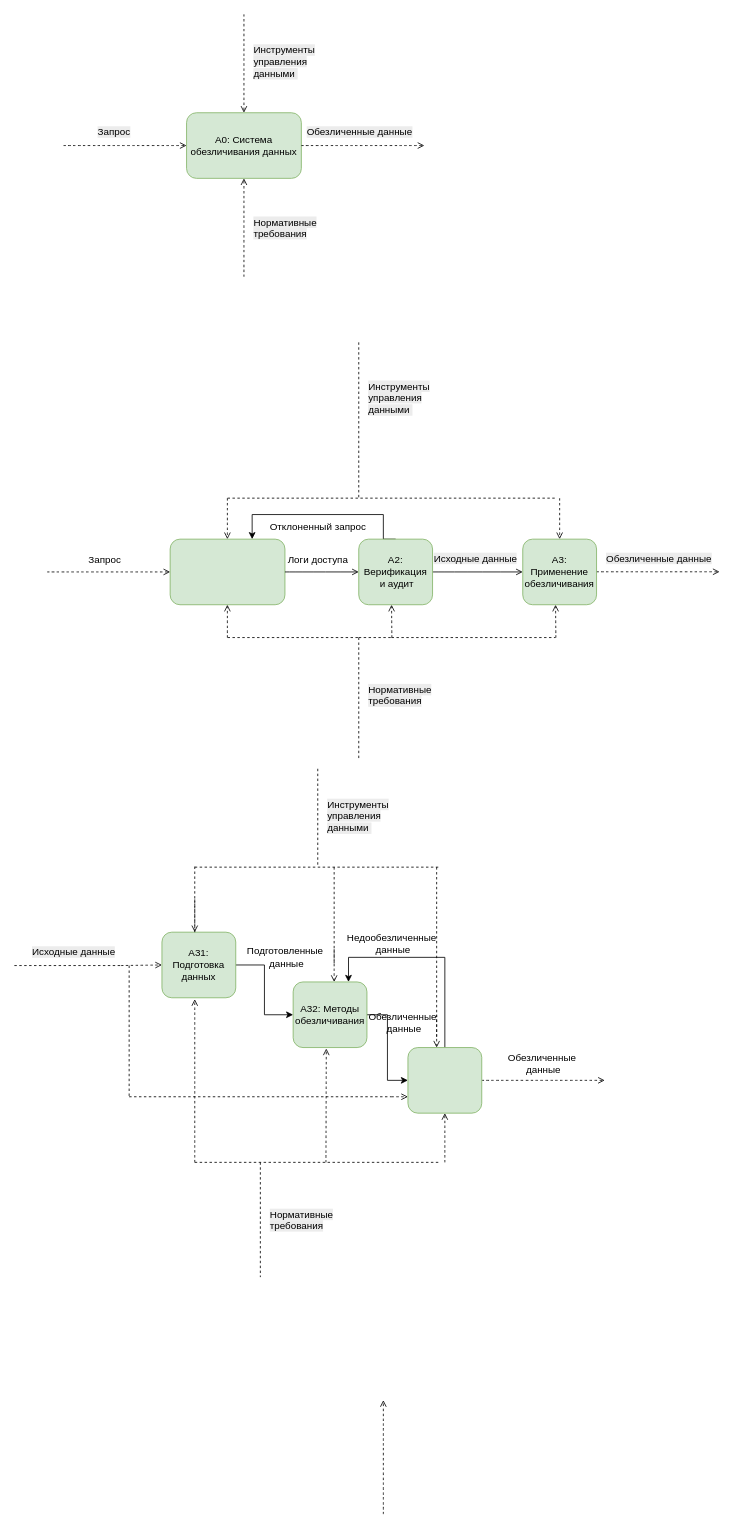
This 750x1528 diagram has some shape labels left out. The shapes that lost their labels are listed below. From the top down, each one's box as (x1, y1, x2, y2) in pixels, then its label:
(169, 538, 285, 605): A1: Управление жизненным циклом данных
(407, 1047, 482, 1113): A33: Оценка риска
